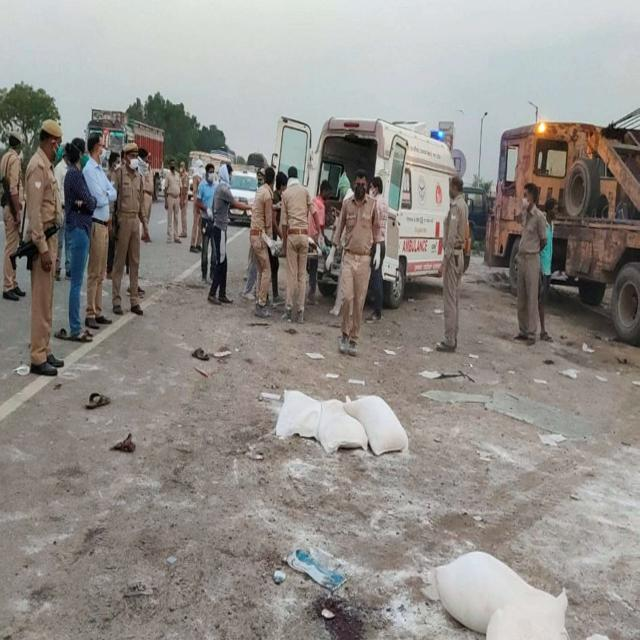car: (464, 185, 490, 241), (230, 165, 264, 206), (229, 208, 251, 227)
emergency: (271, 116, 456, 307)
truck: (485, 109, 640, 344), (86, 109, 164, 195)
